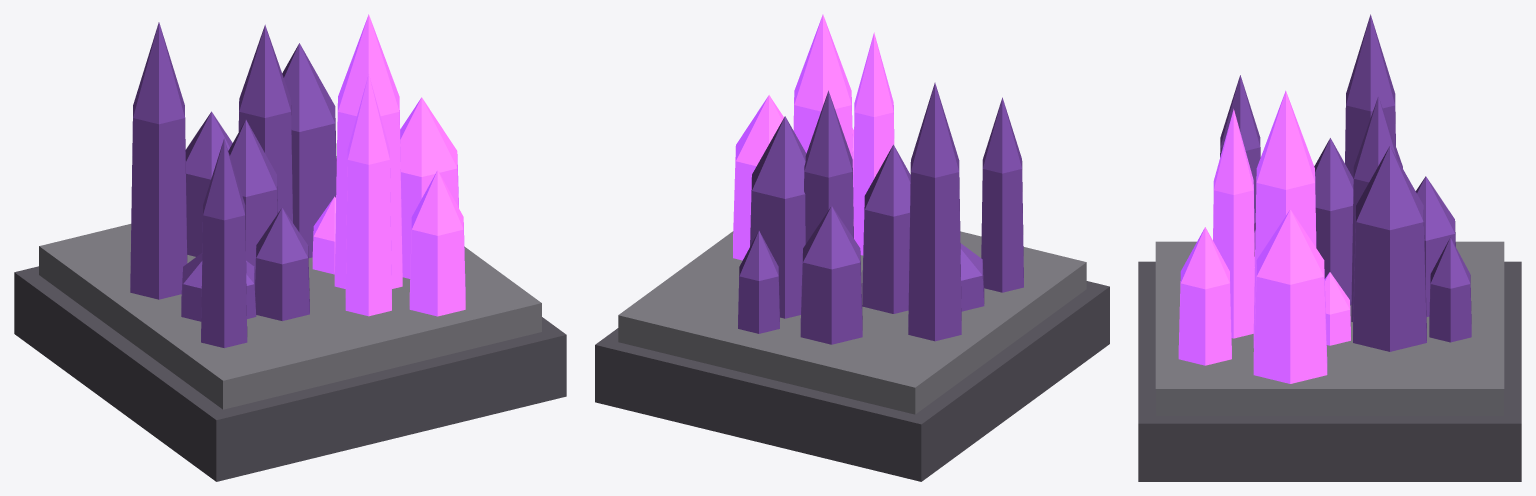
Rendered from soul_crystals.glb.
The picture shows the model from 3 angles, left to right: view 1: azimuth 30°, elevation 25°; view 2: azimuth 150°, elevation 25°; view 3: azimuth 270°, elevation 25°; orthographic projection. The views are drawn at different scales.
Visible parts, largest first — view 1: Soul Crystals; view 2: Soul Crystals; view 3: Soul Crystals.
Boxes of the visible parts, left/top/right/bottom form: Soul Crystals: left=14, top=14, right=566, bottom=481; Soul Crystals: left=595, top=14, right=1109, bottom=481; Soul Crystals: left=1138, top=14, right=1521, bottom=481.
Bounding box in the file's own units: 1.9 × 1.84 × 1.9.
